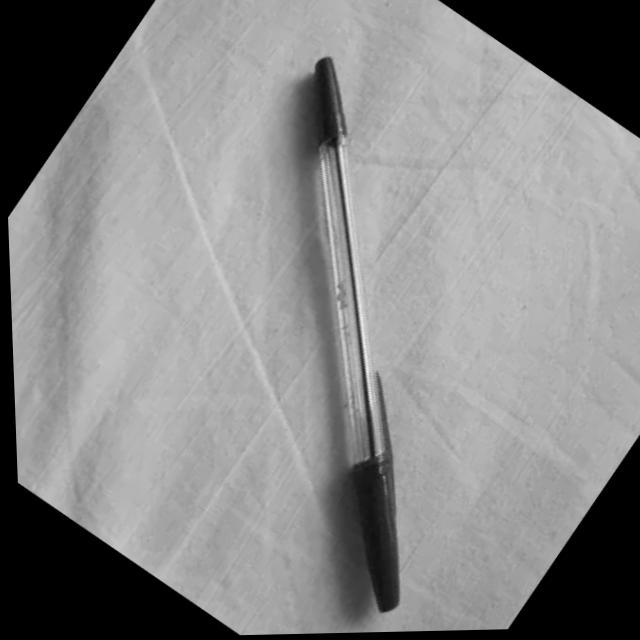pencil: (282, 43, 430, 619)
